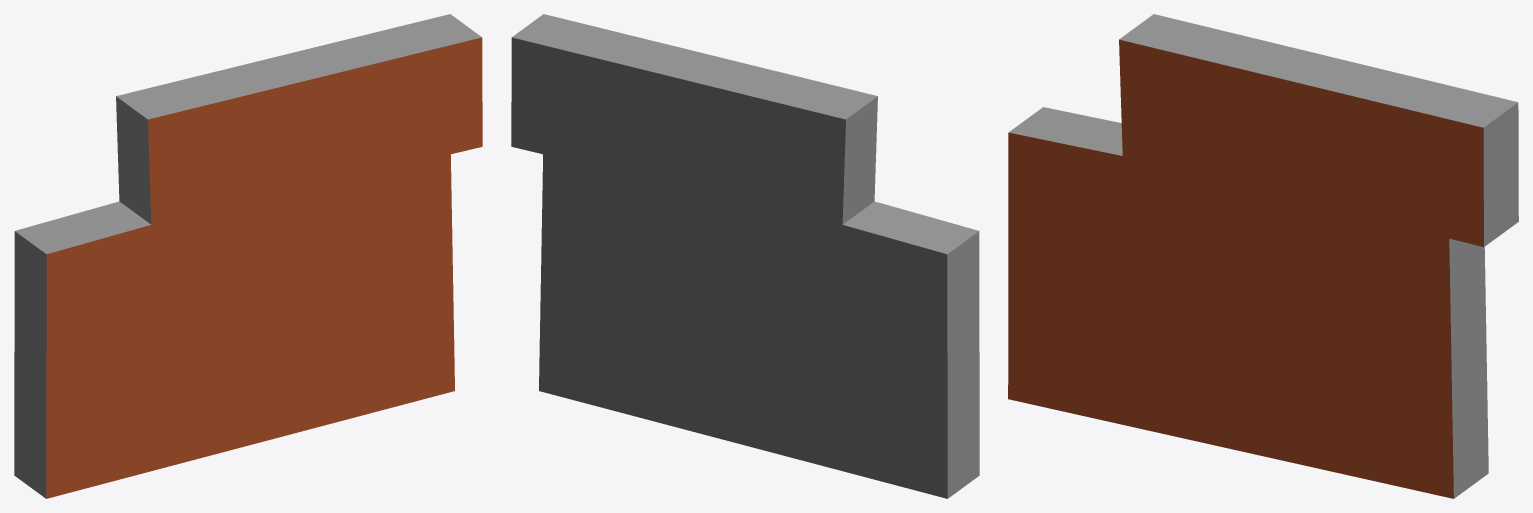
The model's file is construction_2550_assumed_A_Casa_h6m.obj.
3 renders of one model, left to right at view 1: azimuth 30°, elevation 25°; view 2: azimuth 150°, elevation 25°; view 3: azimuth 330°, elevation 25°, orthographic. The views are drawn at different scales.
Parts seen in each view (by area): view 1: construction_2550_assumed_A_Casa; view 2: construction_2550_assumed_A_Casa; view 3: construction_2550_assumed_A_Casa.
Part boxes in pixels (box(x1,y1,x2,y2)): construction_2550_assumed_A_Casa: box(14, 14, 482, 498); construction_2550_assumed_A_Casa: box(511, 14, 979, 498); construction_2550_assumed_A_Casa: box(1008, 14, 1518, 498).
Bounding box in the file's own units: 47.27 × 36.77 × 6.
